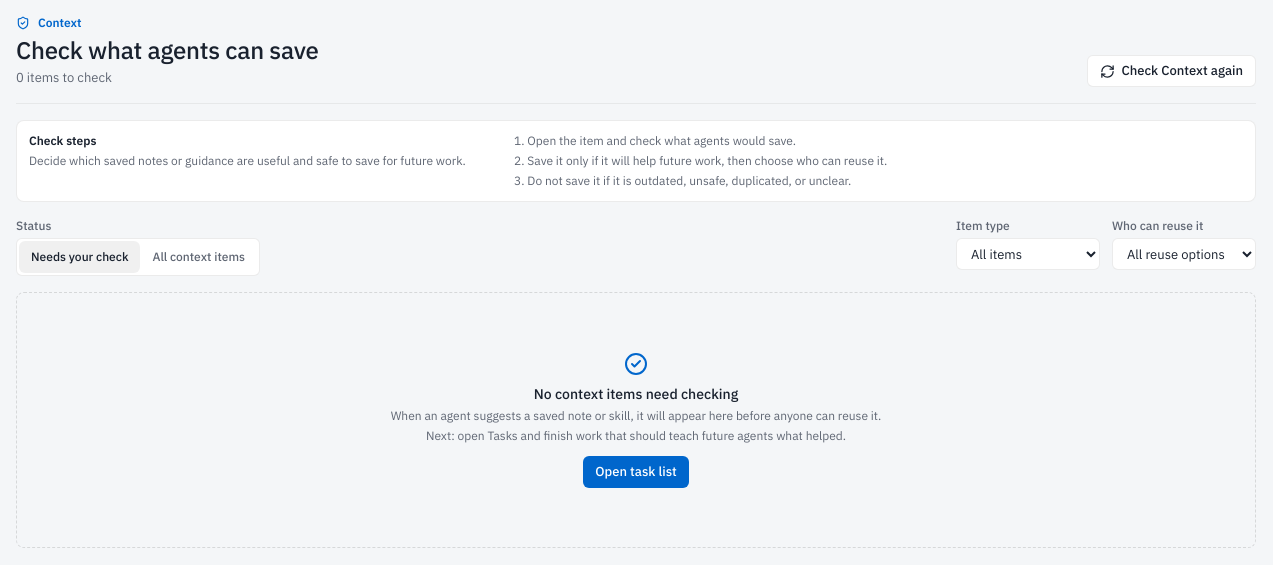
Test case: ApprovalQueueView › explains how saved item history starts before the first review
The image size is (1273, 565).
Click the button "All context items" at [199, 257], box 140,241 -> 257,273
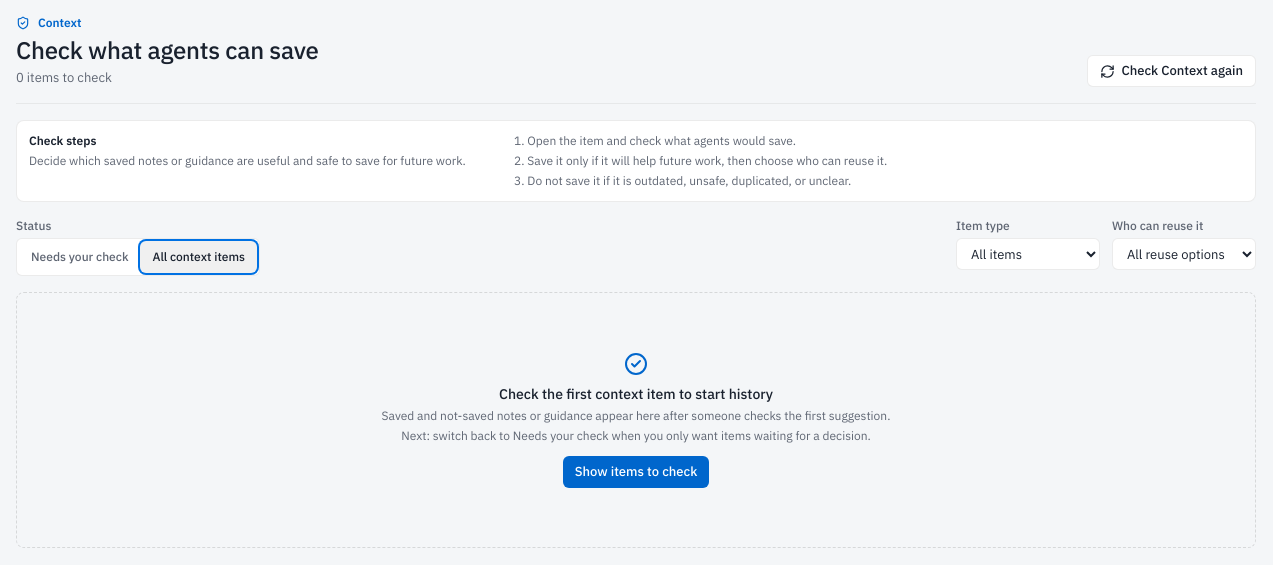
Now the text "Check the first context item to start history" is shown, box 499,384 -> 773,404
Now the text "appear here after someone checks the first suggestion" is shown, box 382,408 -> 890,423
Now the text "switch back to Needs your check" is shown, box 401,428 -> 871,443
